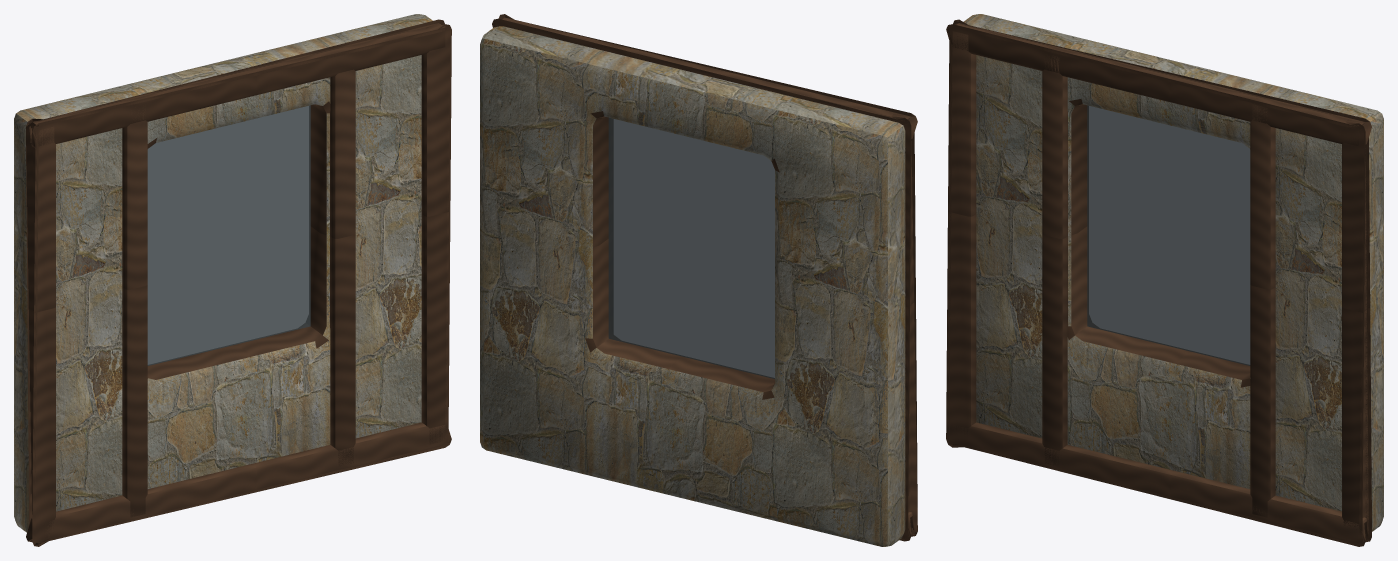
File: wall_timber_frame.glb
3 renders of one model, left to right at view 1: azimuth 30°, elevation 25°; view 2: azimuth 150°, elevation 25°; view 3: azimuth 330°, elevation 25°, orthographic.
Visible parts, largest first — view 1: wall_timber_frame_0, wall_timber_frame_1; view 2: wall_timber_frame_0, wall_timber_frame_1; view 3: wall_timber_frame_0, wall_timber_frame_1.
Boxes of the visible parts, x1,y1,x2,y2 form: wall_timber_frame_0: (14, 14, 432, 532); wall_timber_frame_1: (26, 19, 451, 546); wall_timber_frame_0: (480, 26, 905, 546); wall_timber_frame_1: (492, 14, 917, 541); wall_timber_frame_0: (963, 14, 1383, 531); wall_timber_frame_1: (946, 19, 1371, 546).
Size of the model in its own units: 2.84 by 2.75 by 0.3.
3 materials, 2 textured.
